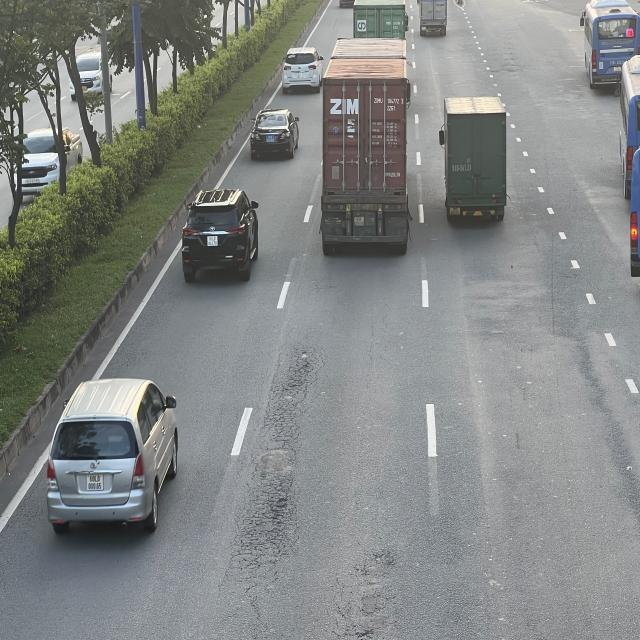car: (46, 376, 182, 531), (181, 188, 260, 284), (249, 108, 299, 160), (282, 45, 323, 92)
coach: (579, 0, 637, 88)
container: (322, 38, 413, 257)
truck: (441, 95, 511, 224), (418, 0, 448, 37)
